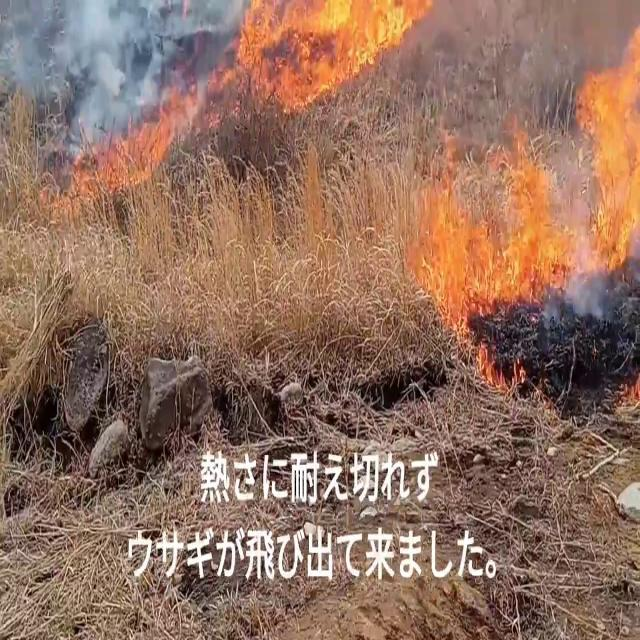Fire: (382, 144, 594, 332), (224, 0, 438, 102), (570, 6, 640, 278), (68, 102, 192, 212)
Smoke: (0, 0, 210, 167)
